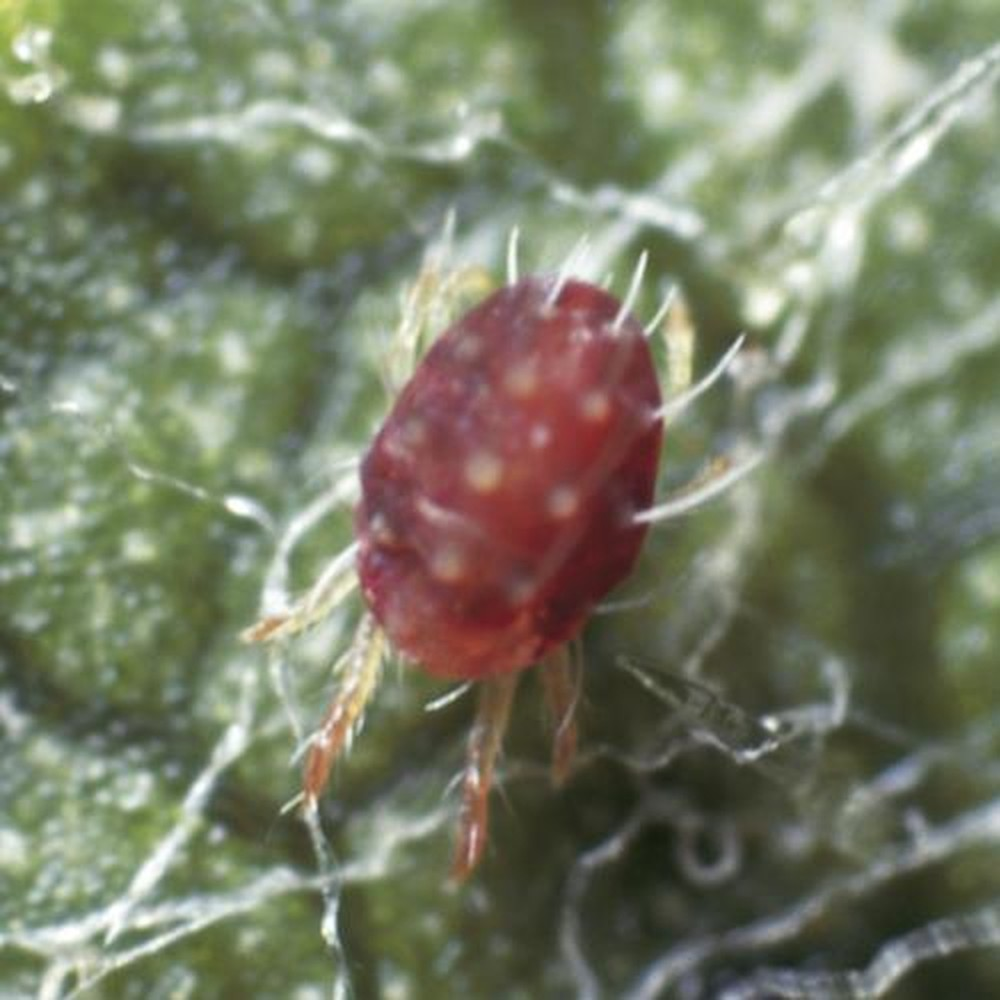Aracnido Rojo: (237, 205, 778, 877)
